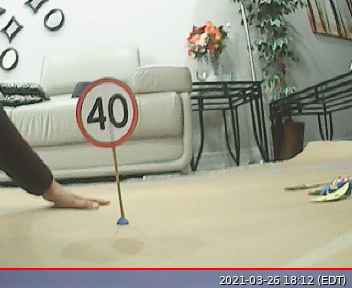Speed Limit 40: (76, 77, 139, 148)
